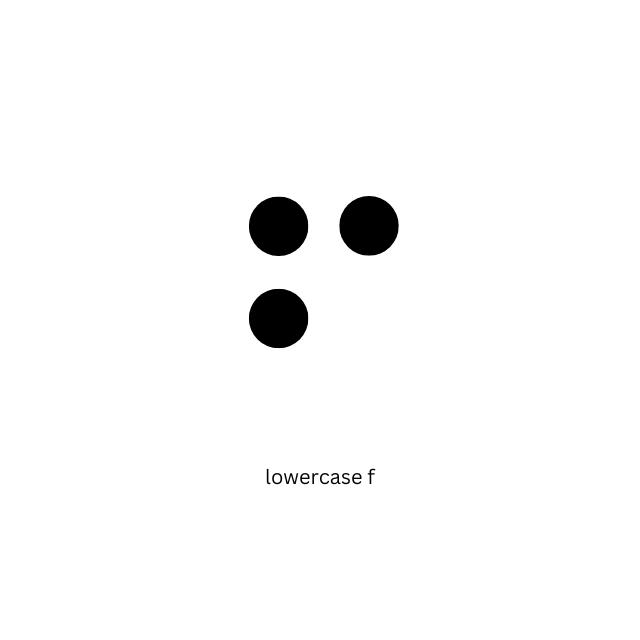letter_f: (248, 196, 401, 445)
